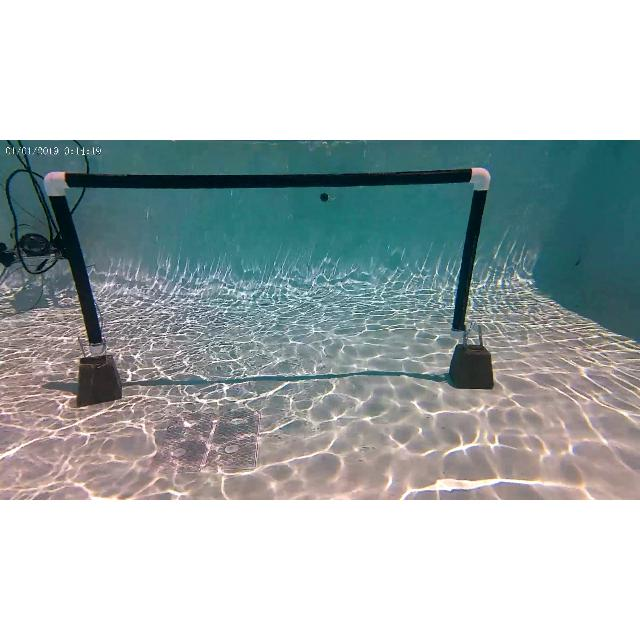prequal gate: (45, 166, 491, 354)
prequal gate leg l: (48, 176, 114, 410)
prequal gate leg r: (454, 172, 496, 390)
